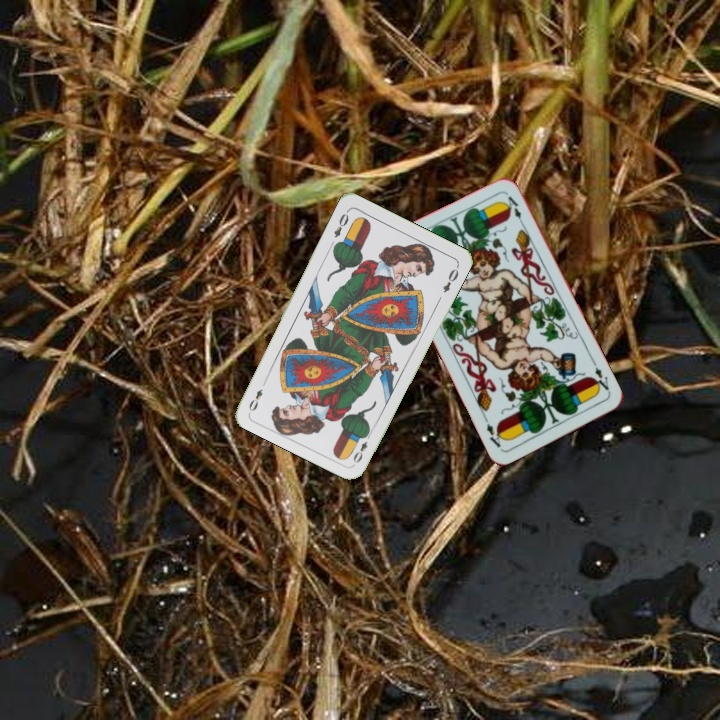EA: (588, 358, 613, 396)
EO: (349, 428, 374, 466), (330, 206, 351, 240)
